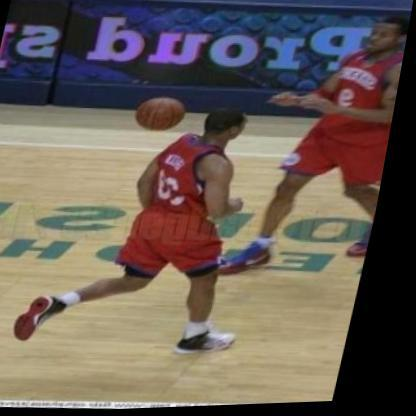basketball: (132, 93, 201, 138)
